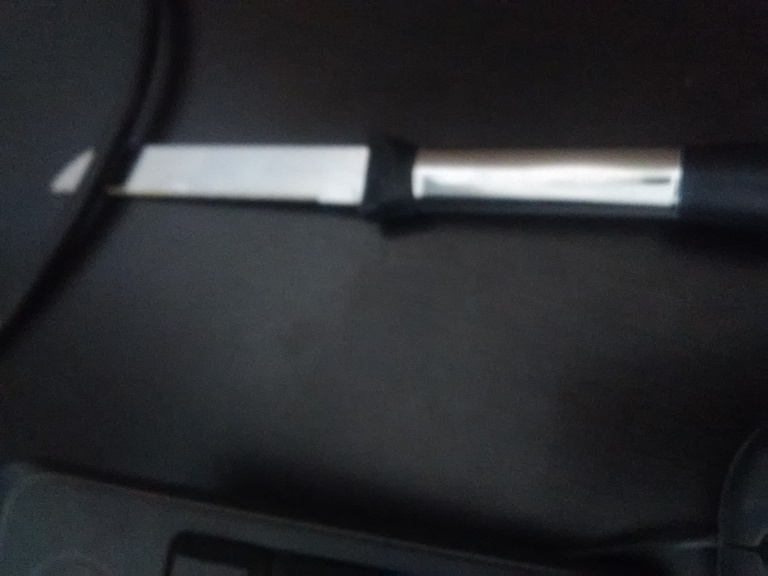knife: (43, 138, 768, 225)
